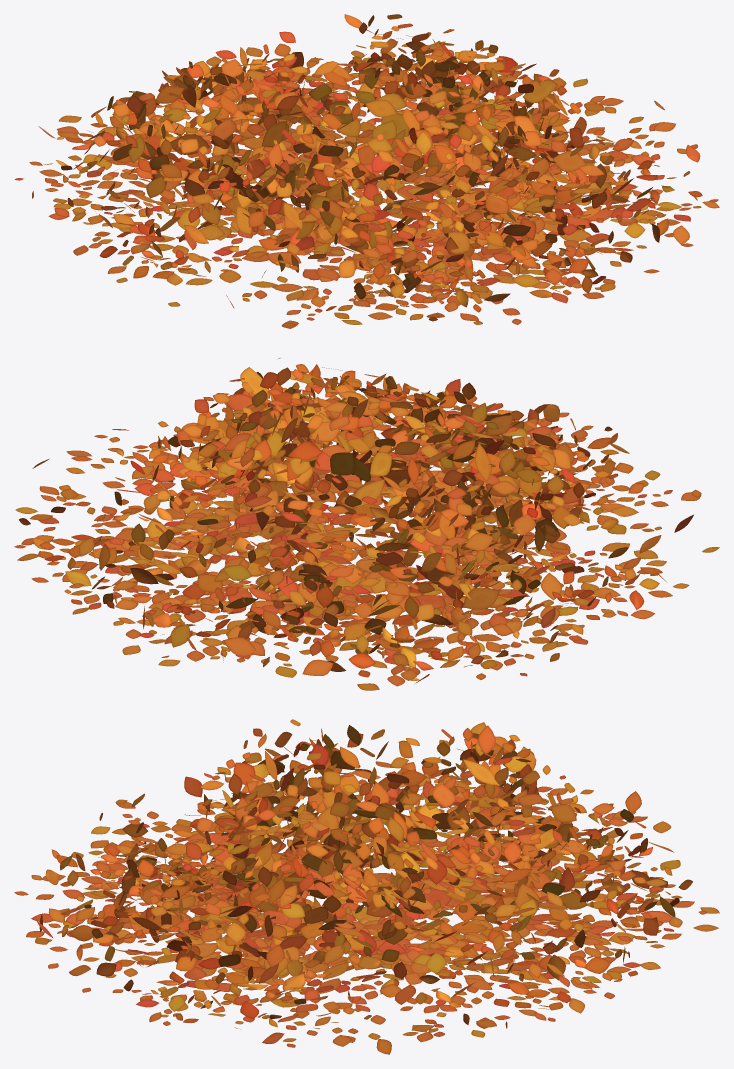
The model's file is Autumn_Obstacle.fbx.
3 views of the same model, one above another, from view 1: azimuth 30°, elevation 25°; view 2: azimuth 150°, elevation 25°; view 3: azimuth 270°, elevation 25° (orthographic). The views are drawn at different scales.
Parts seen in each view (by area): view 1: leafpile; view 2: leafpile; view 3: leafpile.
Part boxes in pixels (x1,y1,x2,y2): leafpile: [14, 14, 719, 328]; leafpile: [14, 358, 719, 690]; leafpile: [14, 719, 719, 1054].
Bounding box in the file's own units: 947 × 192 × 967.
